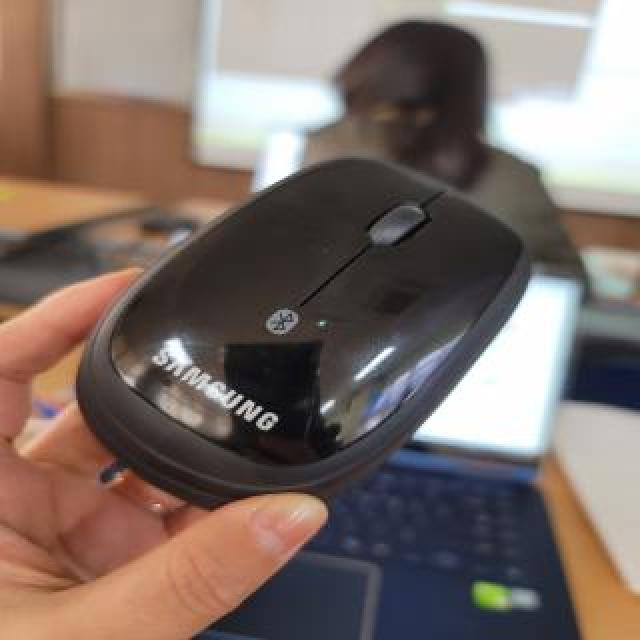mouse: (82, 147, 503, 453)
